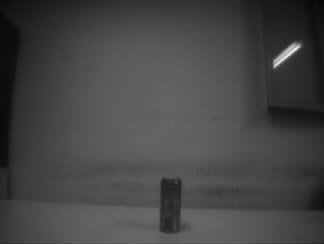Tin can: (159, 176, 182, 234)
